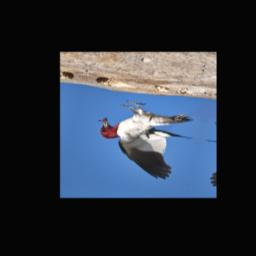Woodpecker: (88, 97, 200, 182)
